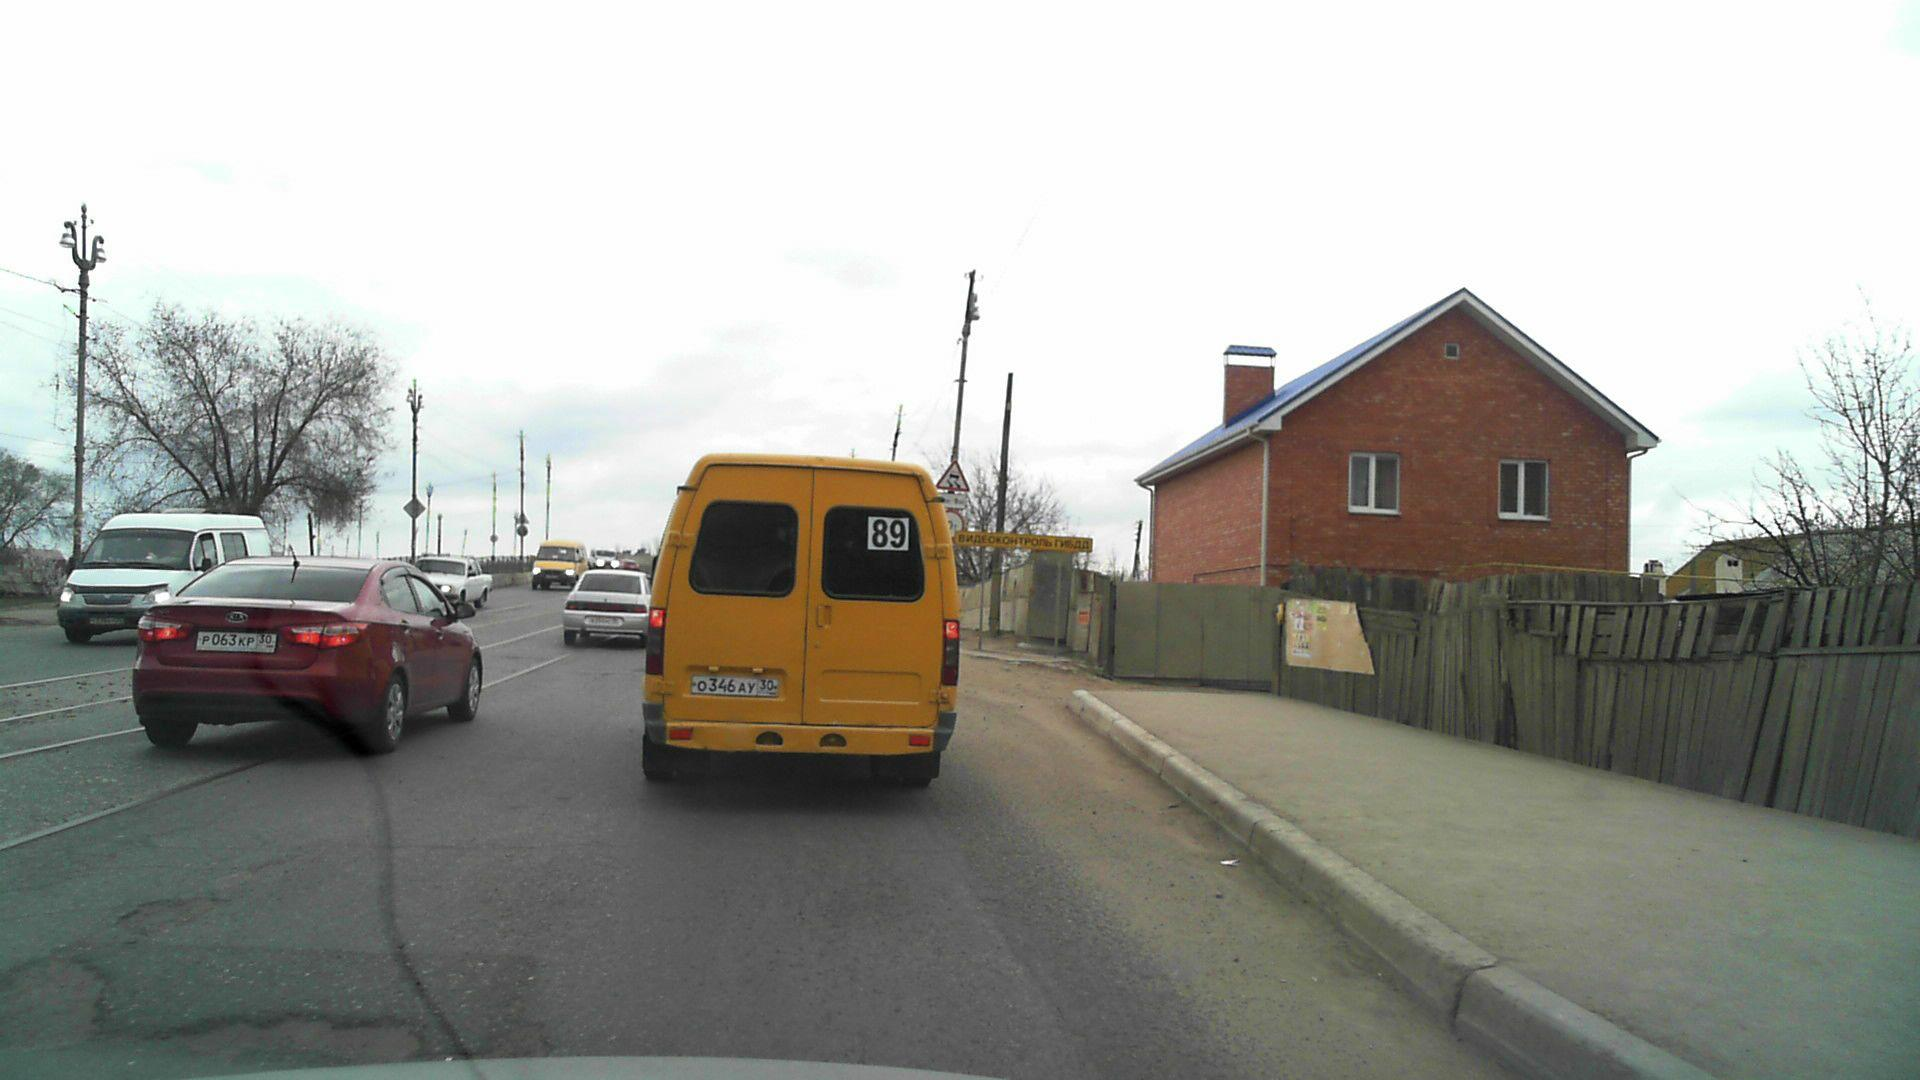1_15: (938, 460, 971, 491)
3_11: (943, 510, 969, 537)
8_5_4: (938, 495, 968, 508)
